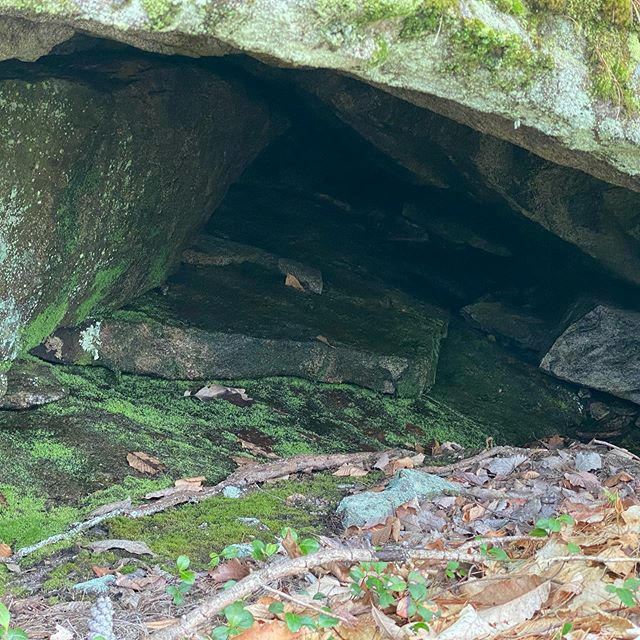rocks: (8, 27, 640, 640)
